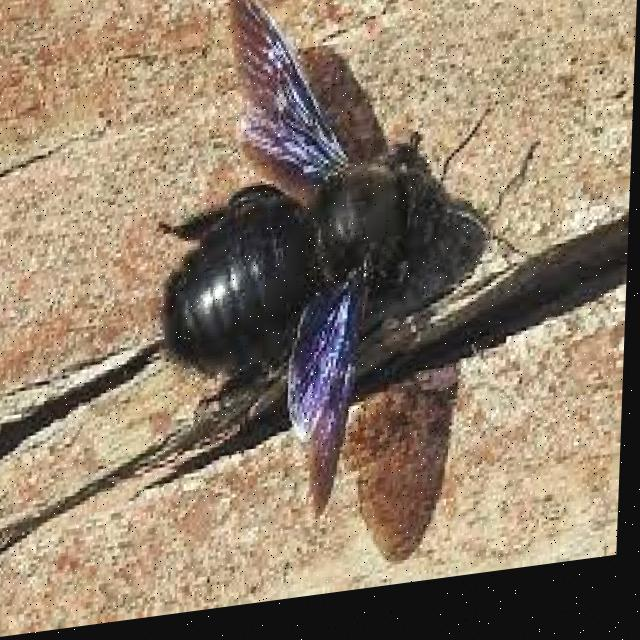Xylocopa: (160, 0, 495, 503)
